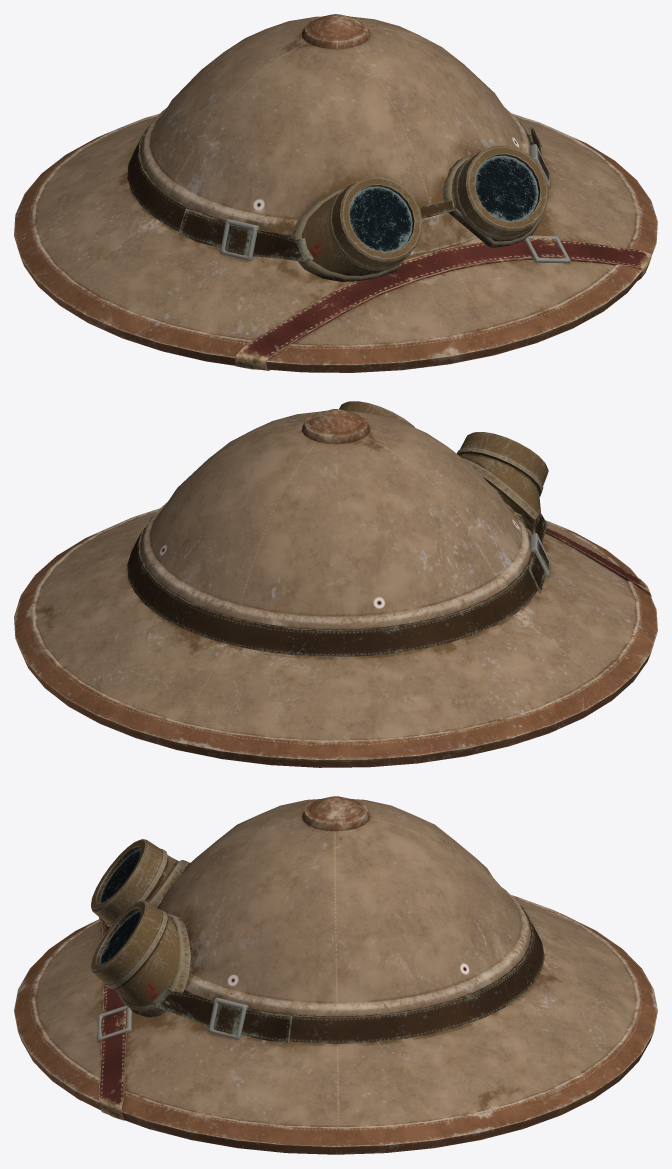
The picture shows the model from 3 angles, top to bottom: view 1: azimuth 30°, elevation 25°; view 2: azimuth 150°, elevation 25°; view 3: azimuth 270°, elevation 25°; orthographic projection.
Parts seen in each view (by area): view 1: hat, goggles_base, hat_strap, goggle_strap, goggle_buckle; view 2: hat, goggle_strap, goggles_base, hat_strap; view 3: hat, goggles_base, goggle_strap, hat_strap, goggle_buckle.
Part boxes in pixels (box(x1,y1,x2,y2)): hat: box(14, 14, 657, 372); goggles_base: box(290, 145, 548, 281); hat_strap: box(234, 238, 651, 370); goggle_strap: box(127, 116, 549, 261); goggle_buckle: box(220, 144, 550, 260); hat: box(14, 409, 657, 767); goggle_strap: box(127, 509, 549, 656); goggles_base: box(339, 401, 548, 529); hat_strap: box(545, 528, 651, 596); hat: box(14, 796, 657, 1154); goggles_base: box(91, 839, 190, 1017); goggle_strap: box(152, 902, 544, 1043); hat_strap: box(98, 917, 126, 1120); goggle_buckle: box(208, 997, 248, 1039).
Size of the model in its own units: 139 by 53.47 by 139.
Materials: 2 (2 with a texture image).
